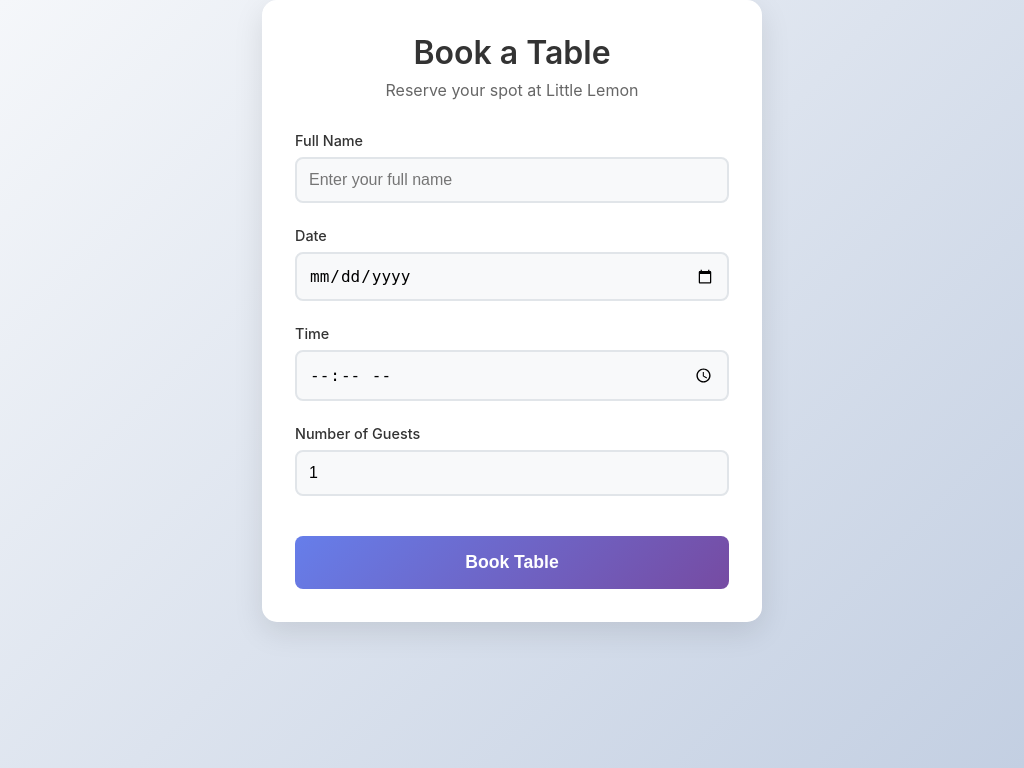
Test case: BookingForm › Form Validation › shows error when submitting empty form
Click the button "Book Table".
click(512, 562)  # box [295,536,729,589]
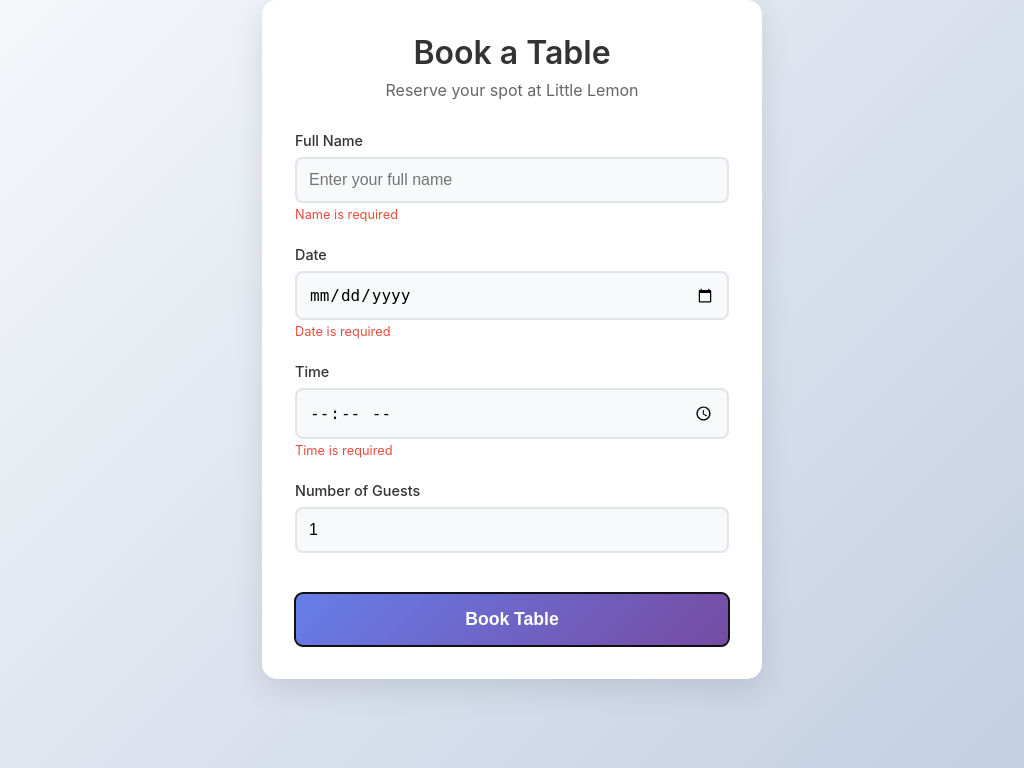
Expected: the text "Name is required" is shown, [295,207,398,222]
Expected: the text "Date is required" is shown, [295,324,390,339]
Expected: the text "Time is required" is shown, [295,443,393,458]
